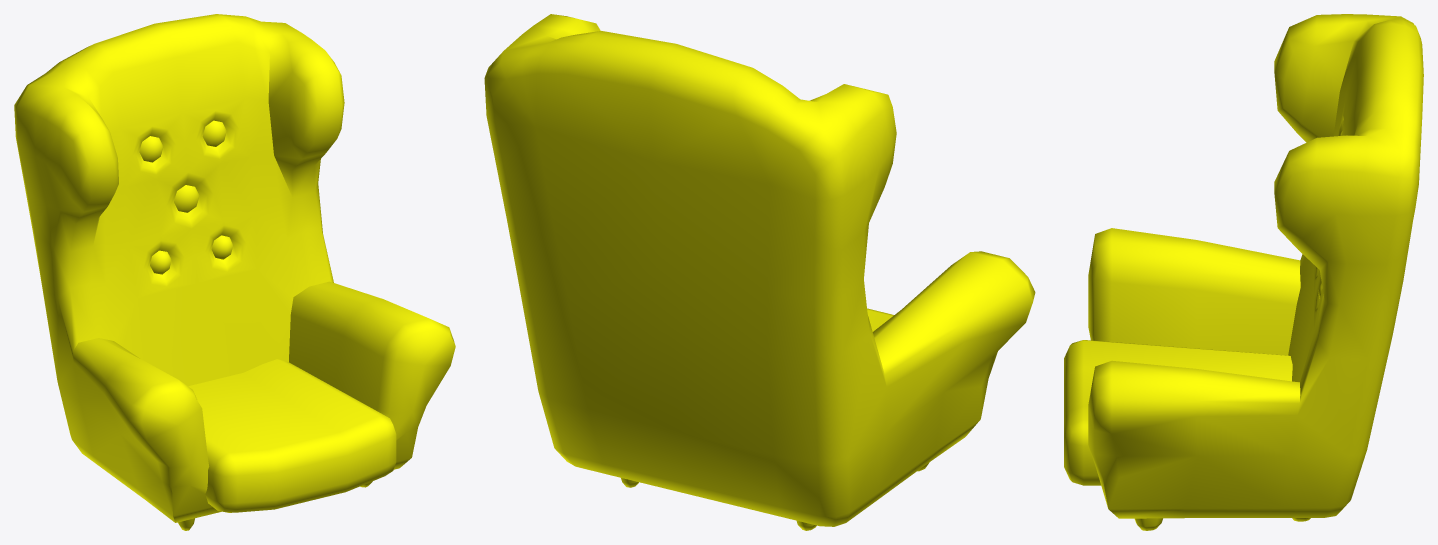
File: kaykit-chair-large-brown.glb
3 renders of one model, left to right at view 1: azimuth 30°, elevation 25°; view 2: azimuth 150°, elevation 25°; view 3: azimuth 270°, elevation 25°, orthographic. The views are drawn at different scales.
Visible parts, largest first — view 1: chair_large_brown; view 2: chair_large_brown; view 3: chair_large_brown.
Part boxes in pixels (<box>): chair_large_brown: <box>14,14,455,530</box>; chair_large_brown: <box>484,14,1035,530</box>; chair_large_brown: <box>1064,14,1423,530</box>.
Size of the model in its own units: 1.83 by 2.14 by 1.61.
